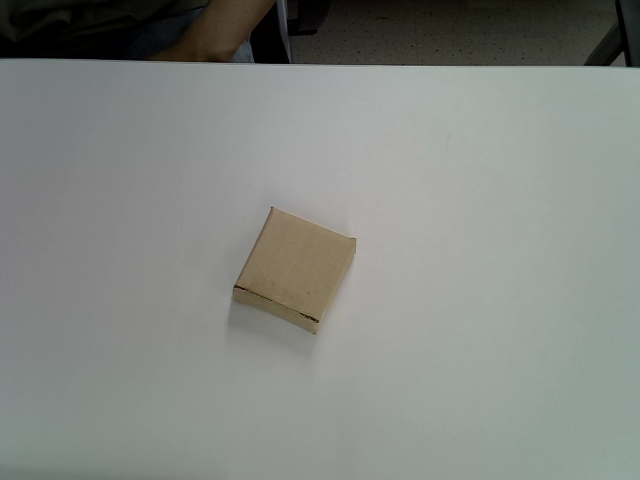normal: (231, 207, 358, 336)
